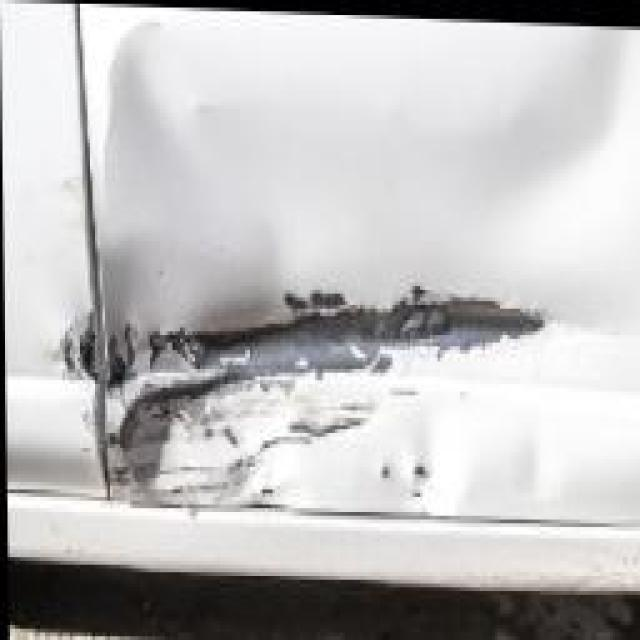Door: (82, 26, 640, 561)
Fender: (5, 102, 95, 507)
